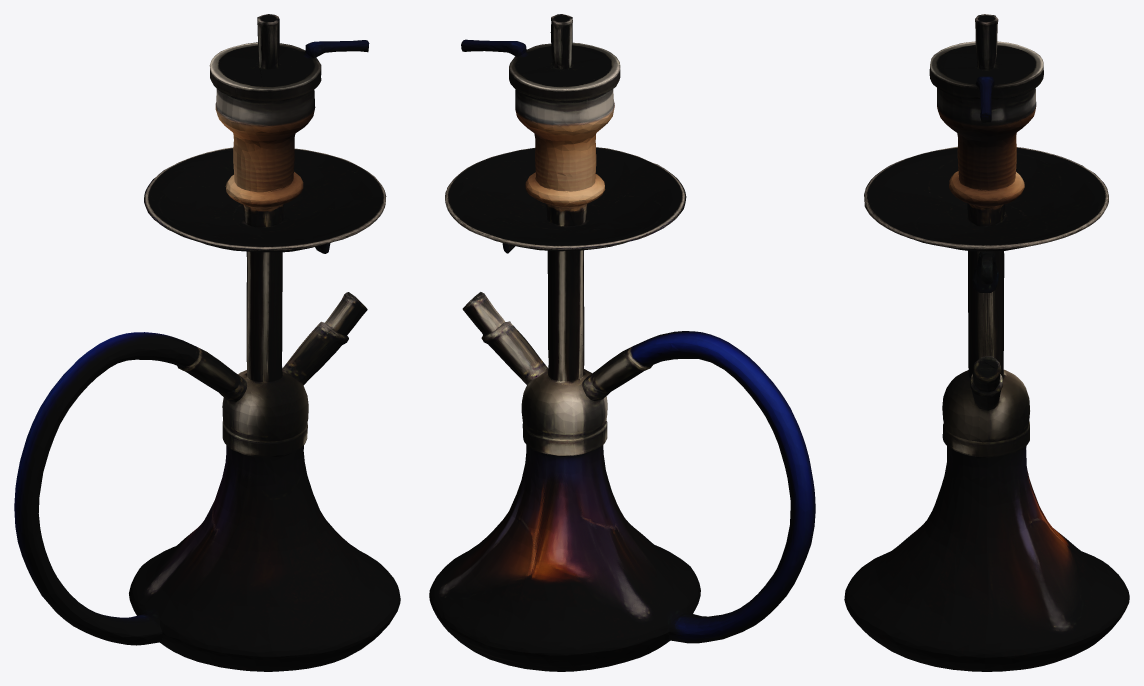
File: hero model.glb
3 views of the same model, side by side, from view 1: azimuth 30°, elevation 25°; view 2: azimuth 150°, elevation 25°; view 3: azimuth 270°, elevation 25° (orthographic).
Visible parts, largest first — view 1: world; view 2: world; view 3: world.
Boxes of the visible parts, x1,y1,x2,y2 form: world: (14,14,400,671); world: (429,14,815,671); world: (844,14,1129,671).
Size of the model in its own units: 0.4392 by 0.7001 by 0.2944.
Materials: 1 (1 with a texture image).
